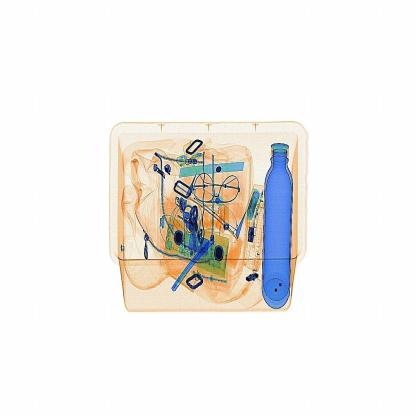pliers: (170, 228, 222, 298)
